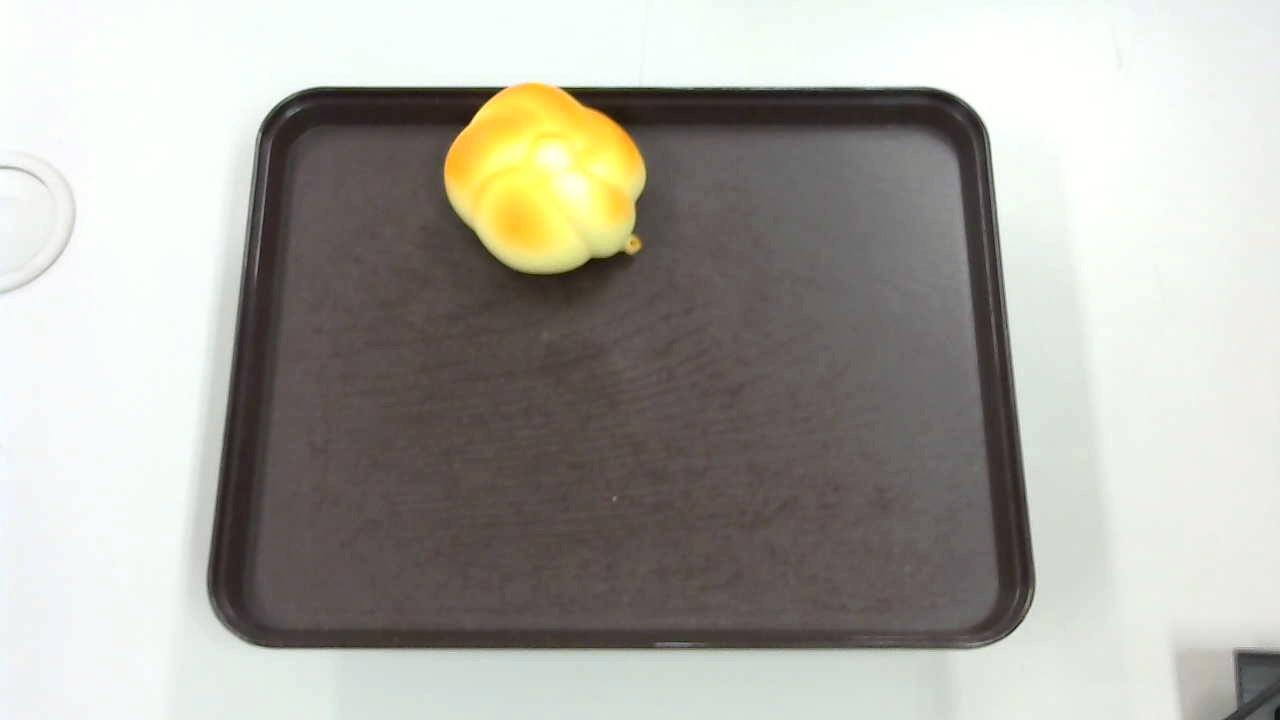twist bread: (443, 83, 646, 275)
